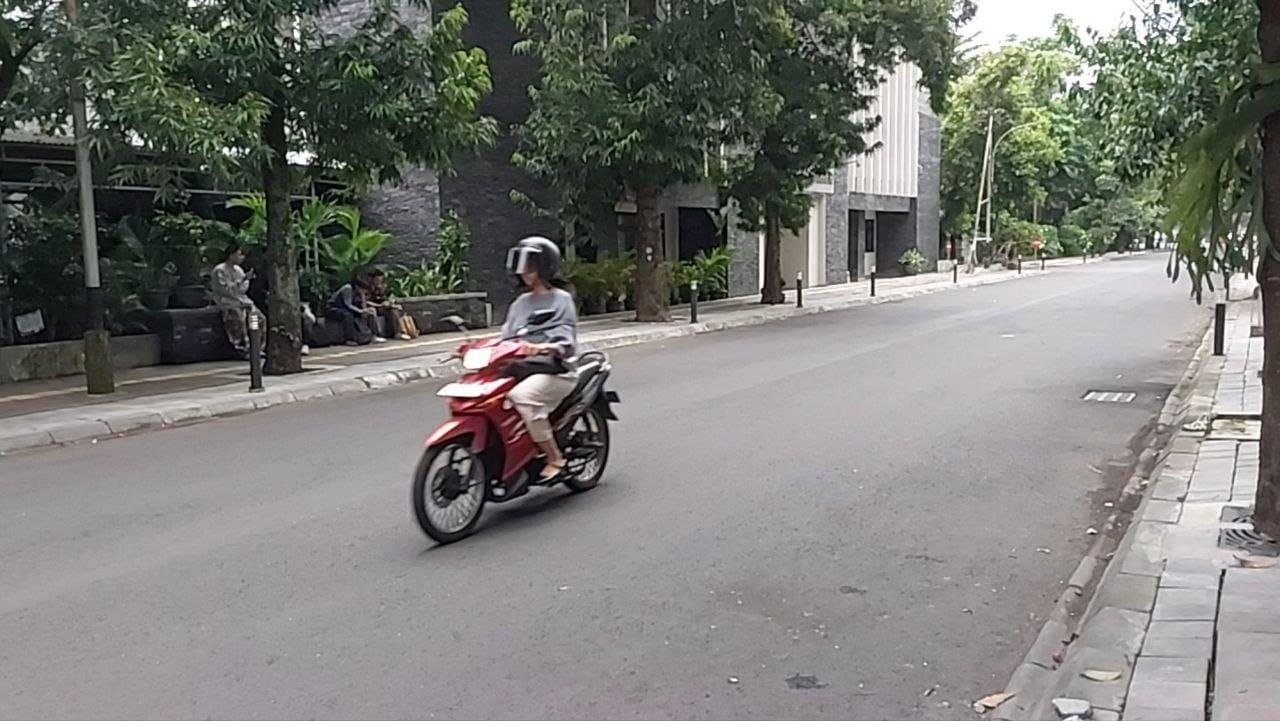helm: (503, 236, 563, 290)
riding: (411, 235, 623, 544)
